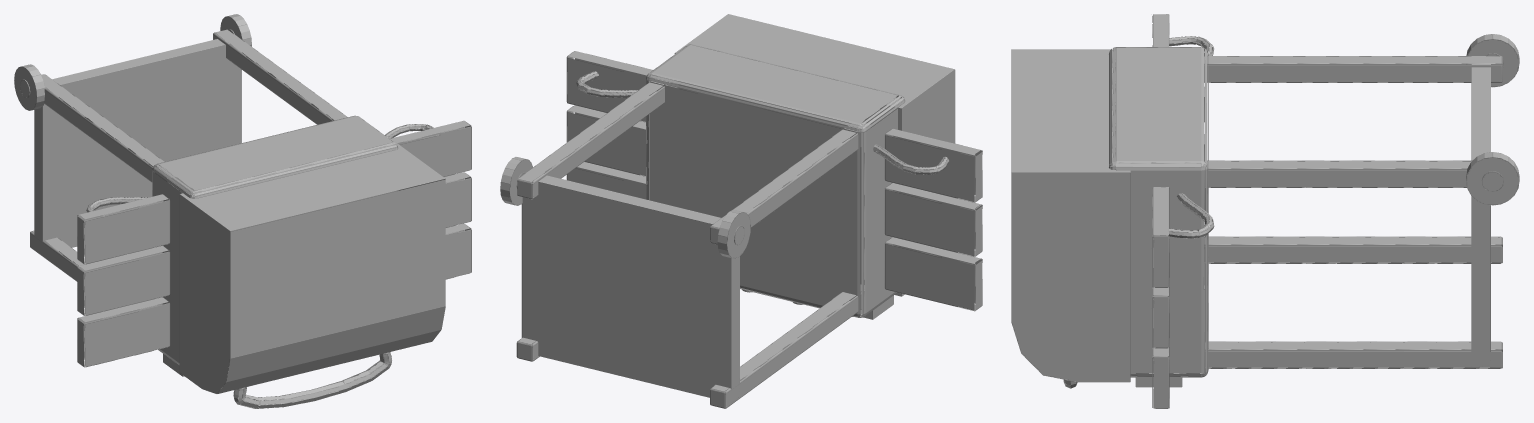
Rendered from pz_barbecue_jorge.obj.
3 views of the same model, side by side, from view 1: azimuth 30°, elevation 25°; view 2: azimuth 150°, elevation 25°; view 3: azimuth 270°, elevation 25° (orthographic). The views are drawn at different scales.
Parts seen in each view (by area): view 1: pz_barbecue_jorge_|_rounded_native_steel_hood, pz_barbecue_jorge_|_open_stand_bottom_shelf, pz_barbecue_jorge_|_grill_firebox, pz_barbecue_jorge_|_native_wood_side_table_slat.002, pz_barbecue_jorge_|_native_wood_side_table_slat, pz_barbecue_jorge_|_native_wood_side_table_slat.001, pz_barbecue_jorge_|_square_stand_leg.001, pz_barbecue_jorge_|_square_stand_leg.003, pz_barbecue_jorge_|_native_wood_side_table_slat.005, pz_barbecue_jorge_|_EDITABLE_curved_hood_handle, pz_barbecue_jorge_|_native_wood_side_table_slat.003, pz_barbecue_jorge_|_native_wood_side_table_slat.004 (+3 smaller); view 2: pz_barbecue_jorge_|_grill_firebox, pz_barbecue_jorge_|_open_stand_bottom_shelf, pz_barbecue_jorge_|_rounded_native_steel_hood, pz_barbecue_jorge_|_native_wood_side_table_slat, pz_barbecue_jorge_|_native_wood_side_table_slat.001, pz_barbecue_jorge_|_native_wood_side_table_slat.002, pz_barbecue_jorge_|_square_stand_leg.003, pz_barbecue_jorge_|_square_stand_leg, pz_barbecue_jorge_|_square_stand_leg.001, pz_barbecue_jorge_|_native_wood_side_table_slat.005, pz_barbecue_jorge_|_native_wood_side_table_slat.004, pz_barbecue_jorge_|_native_wood_side_table_slat.003 (+5 smaller); view 3: pz_barbecue_jorge_|_rounded_native_steel_hood, pz_barbecue_jorge_|_grill_firebox, pz_barbecue_jorge_|_square_stand_leg.002, pz_barbecue_jorge_|_square_stand_leg, pz_barbecue_jorge_|_square_stand_leg.001, pz_barbecue_jorge_|_square_stand_leg.003, pz_barbecue_jorge_|_open_stand_bottom_shelf, pz_barbecue_jorge_|_wheel.001, pz_barbecue_jorge_|_native_wood_side_table_slat.005, pz_barbecue_jorge_|_wheel, pz_barbecue_jorge_|_native_wood_side_table_slat.003, pz_barbecue_jorge_|_native_wood_side_table_slat.004 (+2 smaller).
Part boxes in pixels (x1,y1,x2,y2): pz_barbecue_jorge_|_rounded_native_steel_hood: (179,141,445,393); pz_barbecue_jorge_|_open_stand_bottom_shelf: (34,39,241,250); pz_barbecue_jorge_|_grill_firebox: (152,115,398,365); pz_barbecue_jorge_|_native_wood_side_table_slat.002: (77,194,170,264); pz_barbecue_jorge_|_native_wood_side_table_slat: (77,297,170,367); pz_barbecue_jorge_|_native_wood_side_table_slat.001: (77,245,170,315); pz_barbecue_jorge_|_square_stand_leg.001: (36,74,182,190); pz_barbecue_jorge_|_square_stand_leg.003: (213,29,347,124); pz_barbecue_jorge_|_native_wood_side_table_slat.005: (390,120,471,176); pz_barbecue_jorge_|_EDITABLE_curved_hood_handle: (233,352,391,408); pz_barbecue_jorge_|_native_wood_side_table_slat.003: (445,223,471,279); pz_barbecue_jorge_|_native_wood_side_table_slat.004: (444,172,471,227); pz_barbecue_jorge_|_grill_firebox: (646,44,905,317); pz_barbecue_jorge_|_open_stand_bottom_shelf: (521,175,739,402); pz_barbecue_jorge_|_rounded_native_steel_hood: (674,14,955,296); pz_barbecue_jorge_|_native_wood_side_table_slat: (884,237,982,311); pz_barbecue_jorge_|_native_wood_side_table_slat.001: (884,183,982,256); pz_barbecue_jorge_|_native_wood_side_table_slat.002: (884,128,982,202); pz_barbecue_jorge_|_square_stand_leg.003: (517,76,677,199); pz_barbecue_jorge_|_square_stand_leg: (710,284,864,408); pz_barbecue_jorge_|_square_stand_leg.001: (710,122,870,244); pz_barbecue_jorge_|_native_wood_side_table_slat.005: (566,51,652,122); pz_barbecue_jorge_|_native_wood_side_table_slat.004: (566,105,645,176); pz_barbecue_jorge_|_native_wood_side_table_slat.003: (566,162,645,199); pz_barbecue_jorge_|_rounded_native_steel_hood: (1011,49,1130,382); pz_barbecue_jorge_|_grill_firebox: (1109,47,1208,377); pz_barbecue_jorge_|_square_stand_leg.002: (1205,341,1502,368); pz_barbecue_jorge_|_square_stand_leg: (1204,236,1502,263); pz_barbecue_jorge_|_square_stand_leg.001: (1204,56,1502,82); pz_barbecue_jorge_|_square_stand_leg.003: (1185,160,1471,187); pz_barbecue_jorge_|_open_stand_bottom_shelf: (1471,64,1490,366); pz_barbecue_jorge_|_wheel.001: (1466,152,1519,205); pz_barbecue_jorge_|_native_wood_side_table_slat.005: (1152,187,1169,287); pz_barbecue_jorge_|_wheel: (1466,34,1519,87); pz_barbecue_jorge_|_native_wood_side_table_slat.003: (1152,308,1169,408); pz_barbecue_jorge_|_native_wood_side_table_slat.004: (1152,247,1169,348).
Bounding box in the file's own units: 1.08 × 0.6062 × 1.04.
1 material, 1 textured.
